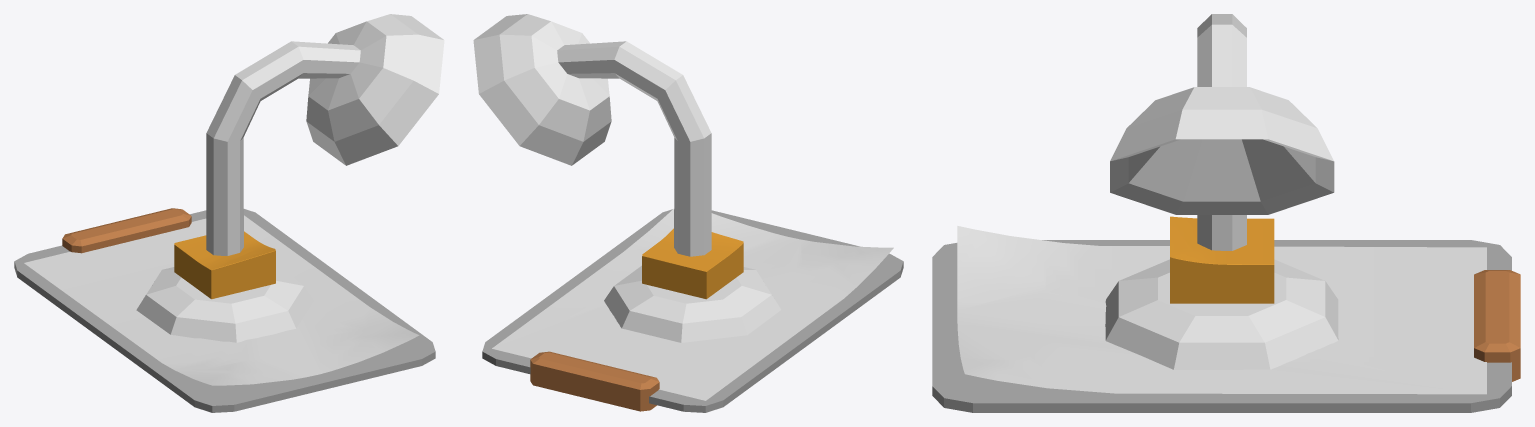
The model's file is DeskItems.fbx.
3 views of the same model, side by side, from view 1: azimuth 30°, elevation 25°; view 2: azimuth 150°, elevation 25°; view 3: azimuth 270°, elevation 25° (orthographic). The views are drawn at different scales.
Parts seen in each view (by area): view 1: Clipboard, Lamp, Postits, Postit3; view 2: Clipboard, Lamp, Postits, Postit3; view 3: Clipboard, Lamp, Postits, Postit3.
Part boxes in pixels (bbox=[...]): Clipboard: bbox=[14, 208, 435, 412]; Lamp: bbox=[136, 14, 444, 342]; Postits: bbox=[174, 245, 275, 299]; Postit3: bbox=[174, 231, 275, 268]; Clipboard: bbox=[482, 208, 903, 412]; Lamp: bbox=[473, 14, 781, 342]; Postits: bbox=[642, 243, 743, 299]; Postit3: bbox=[642, 228, 743, 270]; Clipboard: bbox=[932, 226, 1520, 412]; Lamp: bbox=[1105, 14, 1338, 369]; Postits: bbox=[1170, 257, 1274, 303]; Postit3: bbox=[1170, 216, 1274, 262].
Size of the model in its own units: 270 by 208 by 305.
